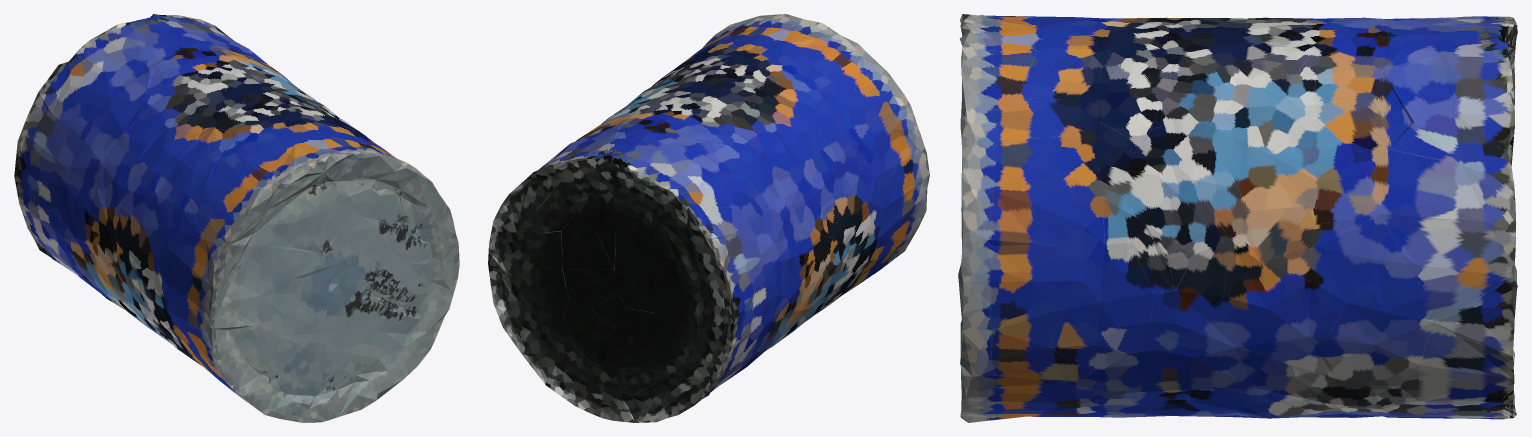
File: ycb_master_chef_can_metric_fp.obj
3 renders of one model, left to right at view 1: azimuth 30°, elevation 25°; view 2: azimuth 150°, elevation 25°; view 3: azimuth 270°, elevation 25°, orthographic. The views are drawn at different scales.
Bounding box in the file's own units: 0.102 × 0.1025 × 0.14.
Materials: 1 (1 with a texture image).
